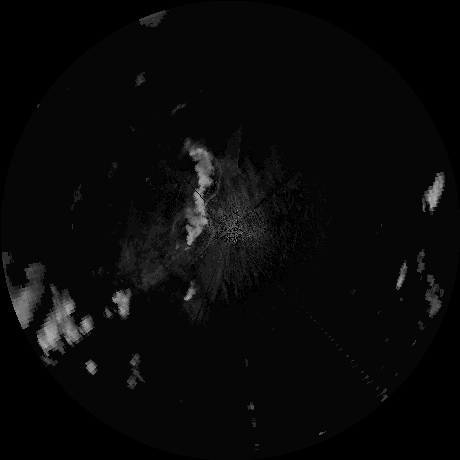frontgust: (203, 156, 224, 202), (204, 210, 217, 250), (173, 209, 185, 240)
